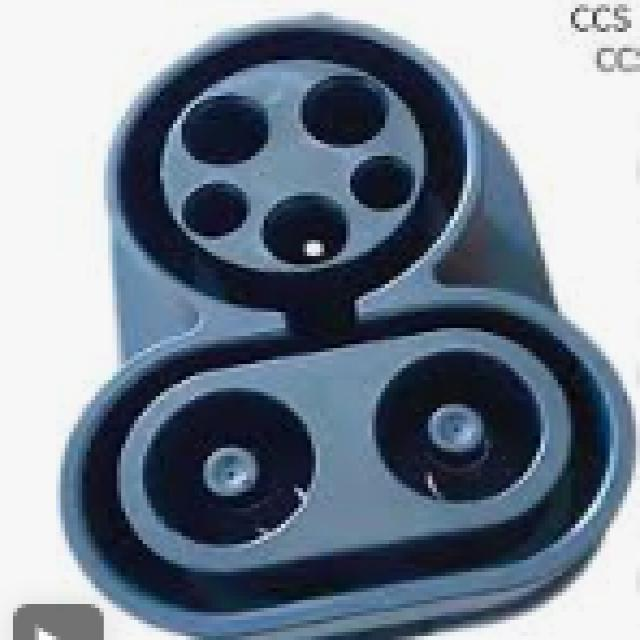CCS1: (43, 31, 617, 624)
